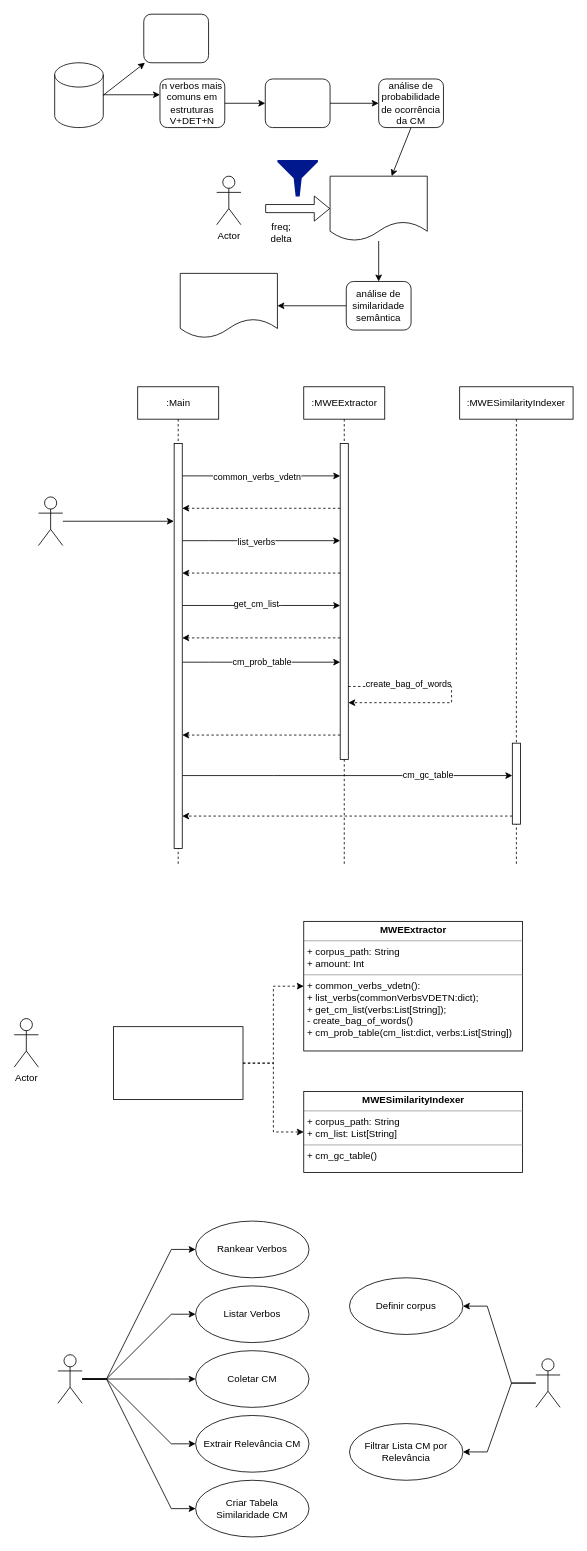
Some shapes in this 587 by 1551 pixel diagram are drawn without their labels. The box of each missing label's shape, as (x1, y1, x2, y2) in pixels:
CM; freq; Prob junto; Prob não junto; Delta prob: (329, 175, 427, 241)
CM; graus de similaridade semântica: (179, 273, 277, 338)
levanta um dicionário das CM: (264, 78, 330, 128)
Main - _CORPUS: String + main():: (113, 1026, 243, 1100)
n verbos mais comuns: (143, 13, 209, 63)
Sistema: (57, 1354, 82, 1403)
User: (38, 496, 63, 546)
Usuário: (535, 1358, 560, 1407)
